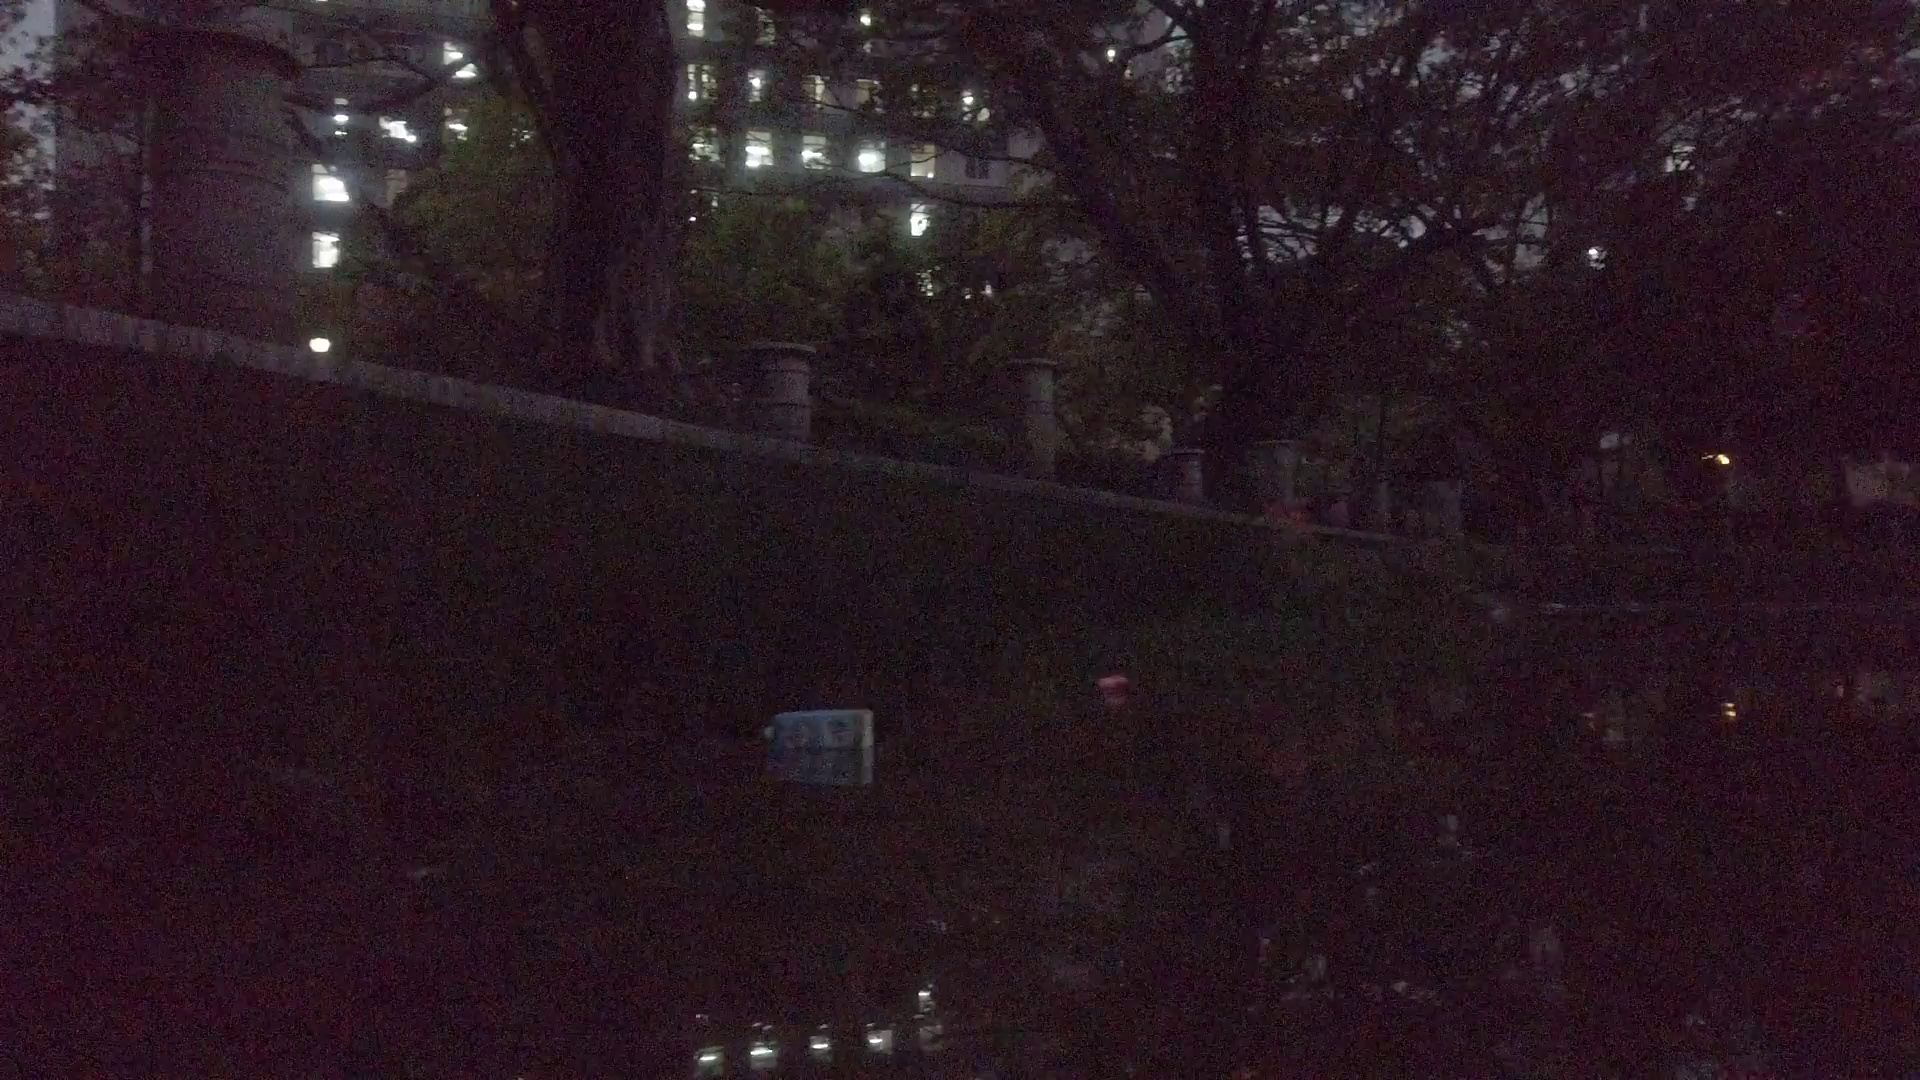bottle: (1101, 673, 1131, 695), (1486, 607, 1516, 626), (1535, 599, 1567, 616)
carton: (762, 709, 873, 746)
